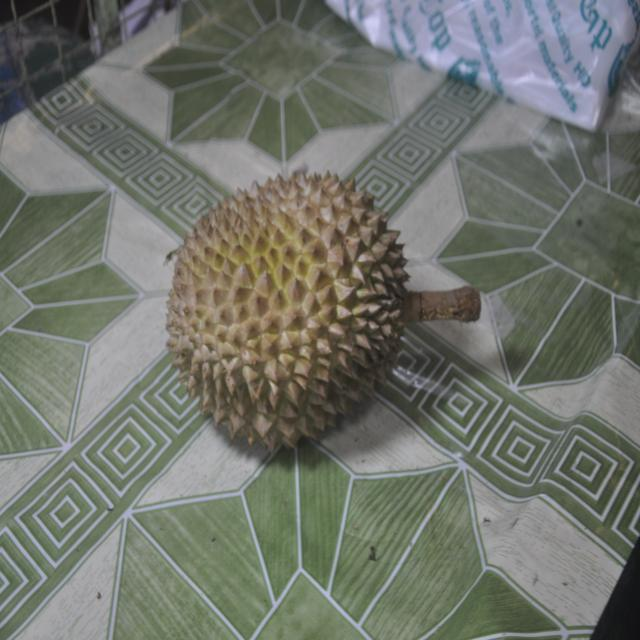mature: (167, 168, 480, 450)
